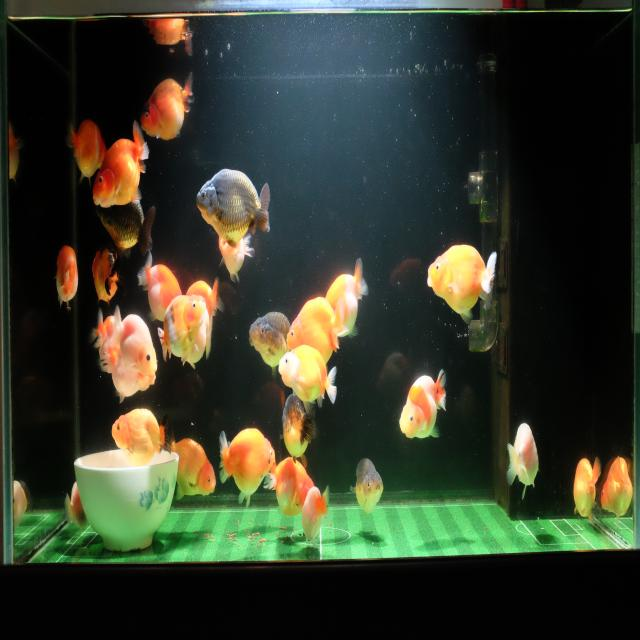Goldfish: (196, 165, 270, 252), (425, 242, 499, 326), (92, 119, 149, 210), (218, 425, 276, 508), (286, 296, 350, 368), (138, 66, 195, 143), (397, 366, 449, 441), (278, 344, 337, 409), (324, 257, 370, 339), (111, 407, 173, 466), (109, 304, 158, 377), (157, 295, 206, 365), (136, 250, 182, 324), (99, 347, 156, 404), (263, 455, 318, 513), (66, 109, 107, 186), (504, 419, 542, 502), (170, 436, 217, 503), (279, 391, 318, 469), (249, 308, 290, 378), (599, 455, 633, 524), (89, 237, 123, 306), (216, 230, 256, 288), (52, 236, 81, 316), (571, 454, 602, 527), (348, 454, 384, 516), (301, 484, 330, 549), (186, 276, 224, 319), (83, 302, 119, 347)
